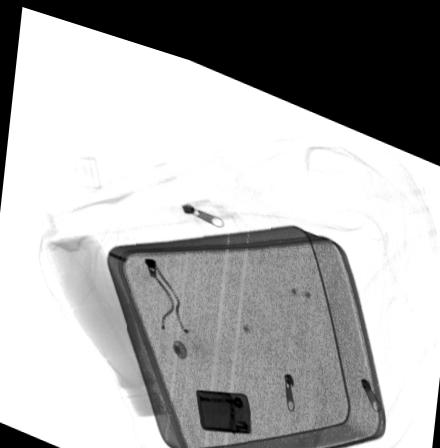Lighter: (194, 376, 251, 418)
